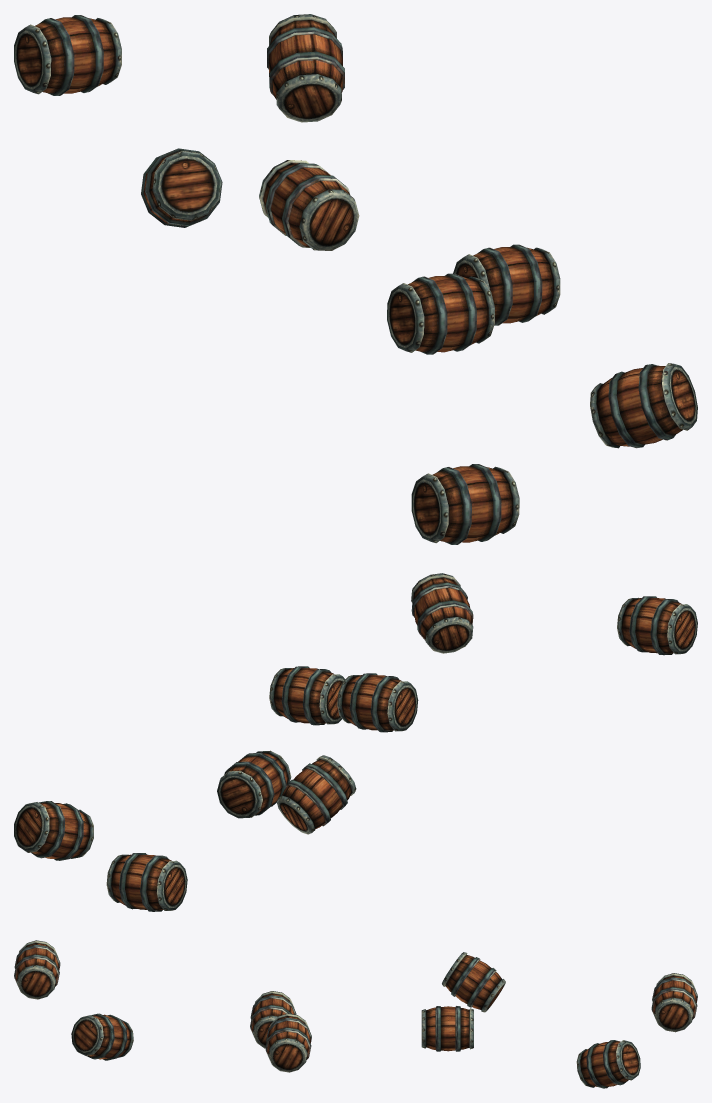
Rendered from BARREL_RIDE_BARRELS.fbx.
3 renders of one model, top to bottom at view 1: azimuth 30°, elevation 25°; view 2: azimuth 150°, elevation 25°; view 3: azimuth 270°, elevation 25°, orthographic. The views are drawn at different scales.
Visible parts, largest first — view 1: BARREL_RIDE_BARRELS; view 2: BARREL_RIDE_BARRELS; view 3: BARREL_RIDE_BARRELS.
Part boxes in pixels (x1,y1,x2,y2): BARREL_RIDE_BARRELS: (14, 14, 697, 544); BARREL_RIDE_BARRELS: (14, 573, 697, 911); BARREL_RIDE_BARRELS: (14, 940, 697, 1088).
Size of the model in its own units: 47342 by 12066 by 116662.
Materials: 2 (2 with a texture image).
